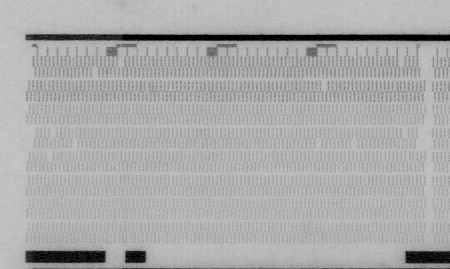Broken hole: (414, 125, 429, 150), (24, 124, 37, 151), (417, 57, 429, 83), (43, 150, 56, 164), (398, 128, 412, 140), (348, 137, 362, 149), (70, 137, 81, 152), (319, 81, 331, 94), (116, 57, 128, 70), (47, 126, 58, 140), (89, 67, 101, 79), (313, 138, 324, 151), (395, 56, 407, 66)
